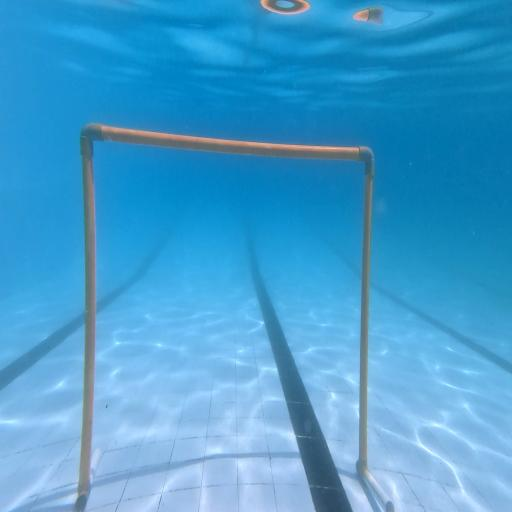gate: (80, 123, 395, 512)
